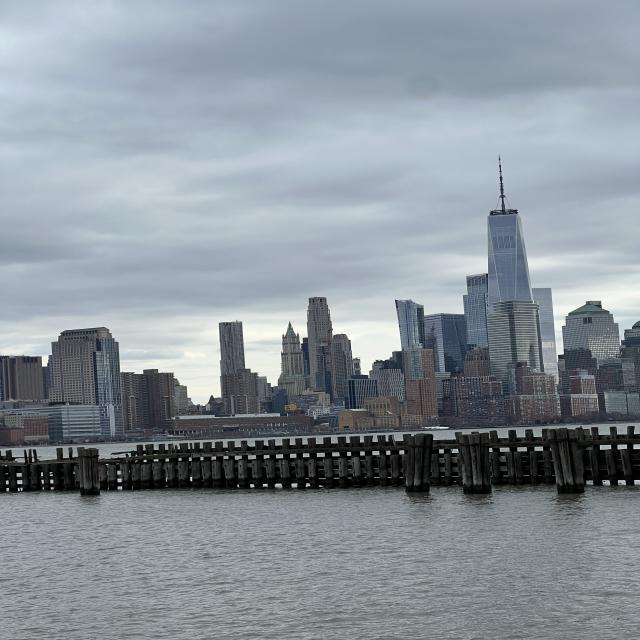WTC: (487, 153, 532, 301)
